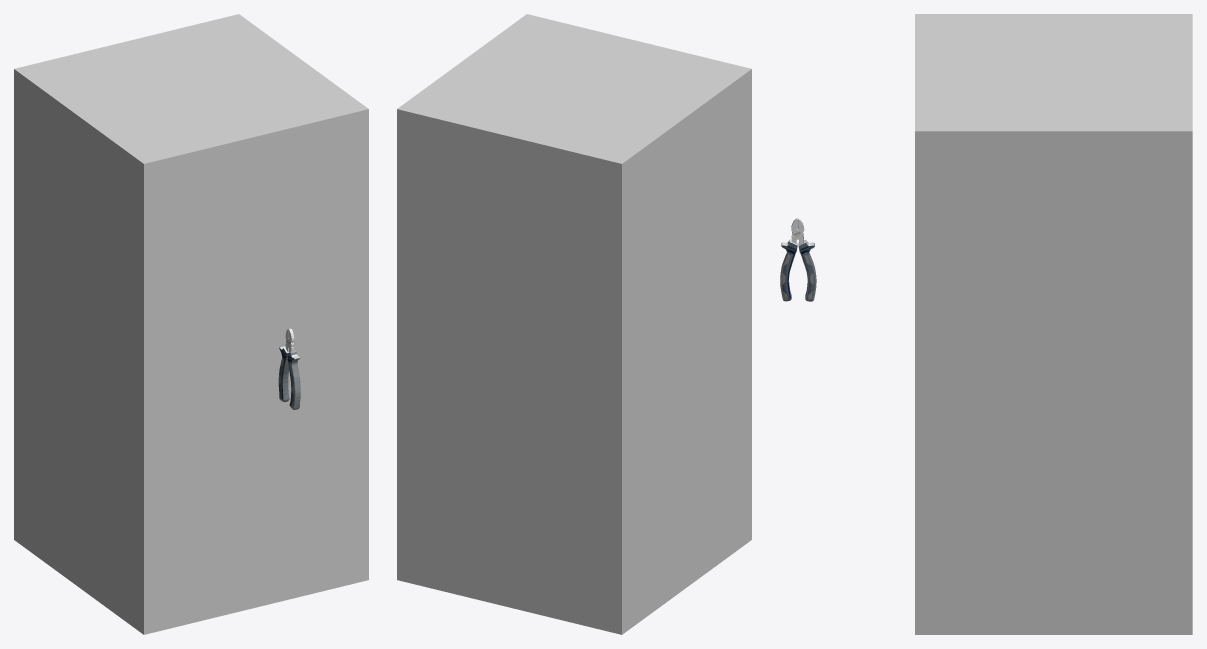
The model's file is Alicate.fbx.
The picture shows the model from 3 angles, left to right: view 1: azimuth 30°, elevation 25°; view 2: azimuth 150°, elevation 25°; view 3: azimuth 270°, elevation 25°; orthographic projection. The views are drawn at different scales.
Visible parts, largest first — view 1: Cube, Cube.001; view 2: Cube; view 3: Cube, Cube.001.
Boxes of the visible parts, <box> form: Cube: <box>14,14,368,634</box>; Cube.001: <box>278,328,300,409</box>; Cube: <box>397,14,751,634</box>; Cube: <box>915,14,1192,634</box>; Cube.001: <box>780,218,816,301</box>.
Bounding box in the file's own units: 100 × 200 × 149.
1 material, 1 textured.
